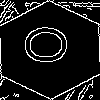O: (25, 25, 78, 65)
